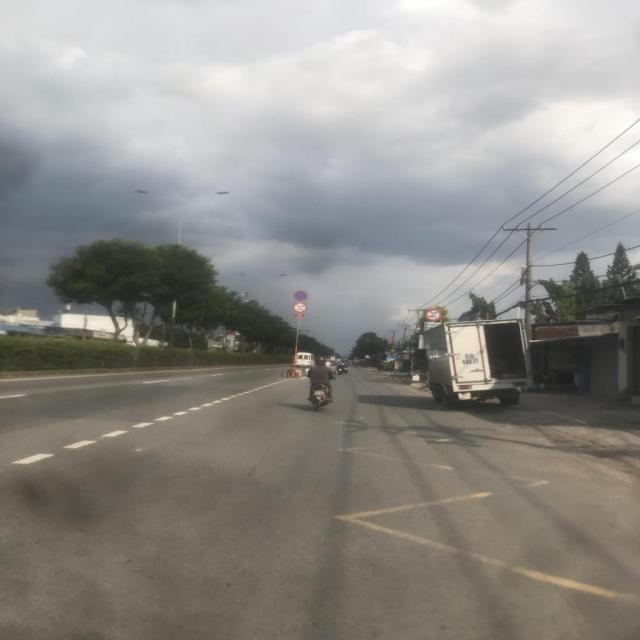cam_dung_xe_va_do_xe: (294, 290, 308, 302)
cam_o_to_tai_va_xe_khach: (425, 308, 442, 322)
cam_xe_2_banh_va_xe_3_banh_co_dong_co: (292, 302, 307, 313)
khac: (424, 321, 442, 332)
